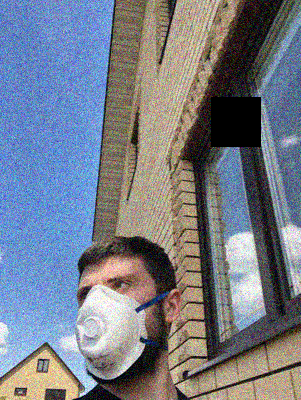with_mask: (75, 271, 152, 385)
